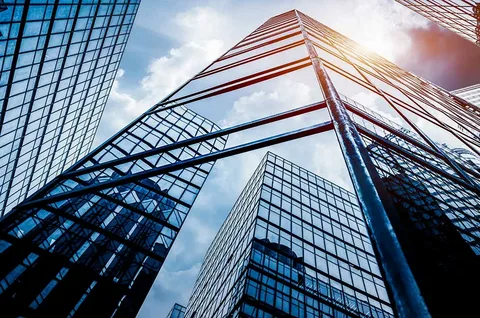high_rise_building: (225, 4, 420, 313)
